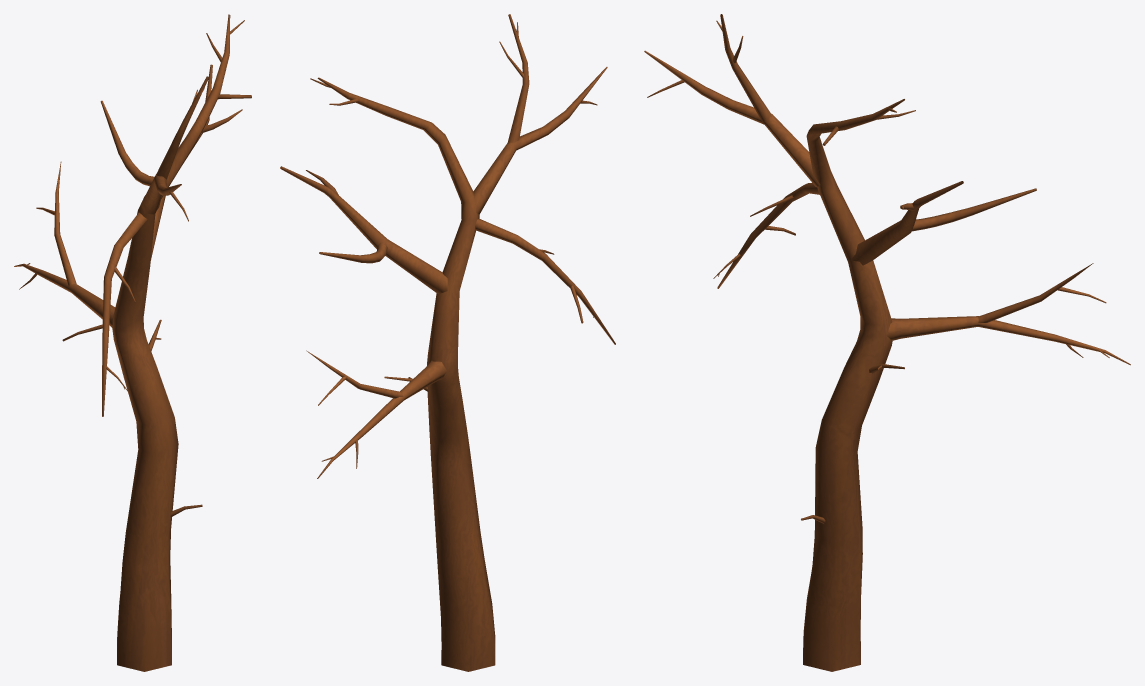
The model's file is oak_dead_01.glb.
3 views of the same model, side by side, from view 1: azimuth 30°, elevation 25°; view 2: azimuth 150°, elevation 25°; view 3: azimuth 270°, elevation 25° (orthographic). The views are drawn at different scales.
Visible parts, largest first — view 1: oak_dead_01; view 2: oak_dead_01; view 3: oak_dead_01.
Boxes of the visible parts, left/top/right/bottom form: oak_dead_01: left=14, top=14, right=251, bottom=671; oak_dead_01: left=280, top=14, right=615, bottom=671; oak_dead_01: left=644, top=14, right=1130, bottom=671.
Size of the model in its own units: 5.61 by 14.27 by 9.7.
1 material, 1 textured.
